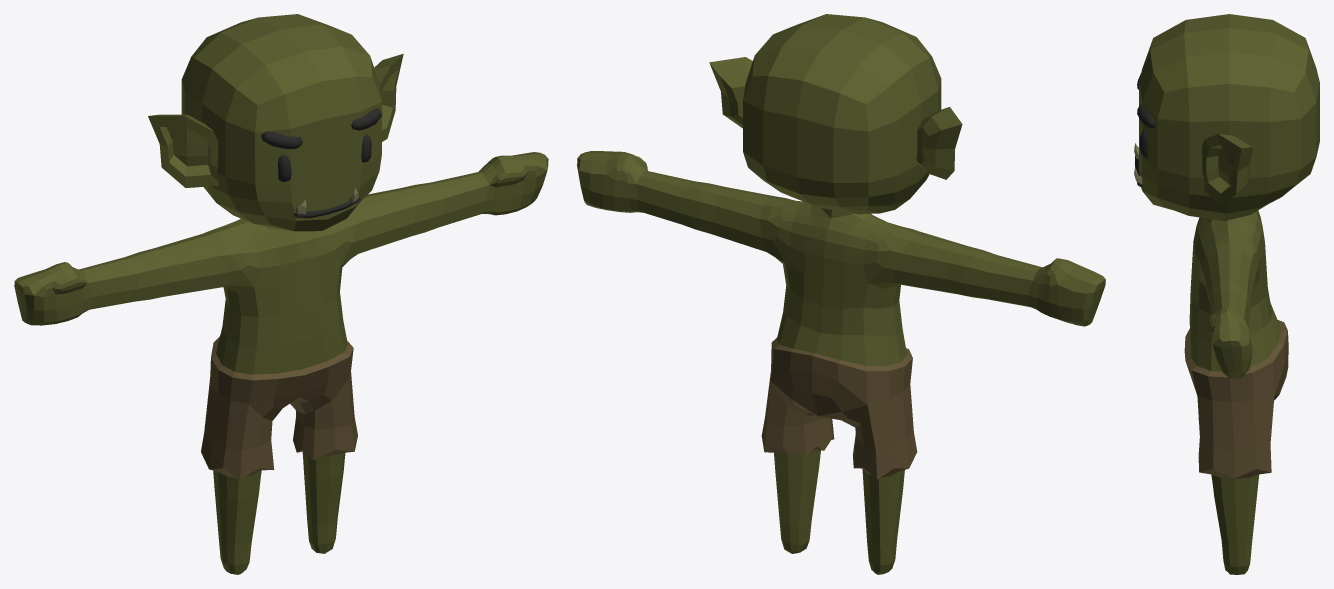
File: Goblin_Male.fbx
The picture shows the model from 3 angles, left to right: view 1: azimuth 30°, elevation 25°; view 2: azimuth 150°, elevation 25°; view 3: azimuth 270°, elevation 25°; orthographic projection. The views are drawn at different scales.
Parts seen in each view (by area): view 1: Body; view 2: Body; view 3: Body.
Part boxes in pixels (left/top/right/bottom): Body: left=14, top=14, right=548, bottom=574; Body: left=577, top=14, right=1105, bottom=574; Body: left=1134, top=14, right=1319, bottom=574.
Bounding box in the file's own units: 324 × 315 × 101.
Materials: 1 (1 with a texture image).
